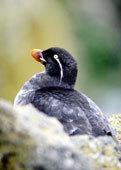007.Parakeet_Auklet: (14, 47, 119, 149)
